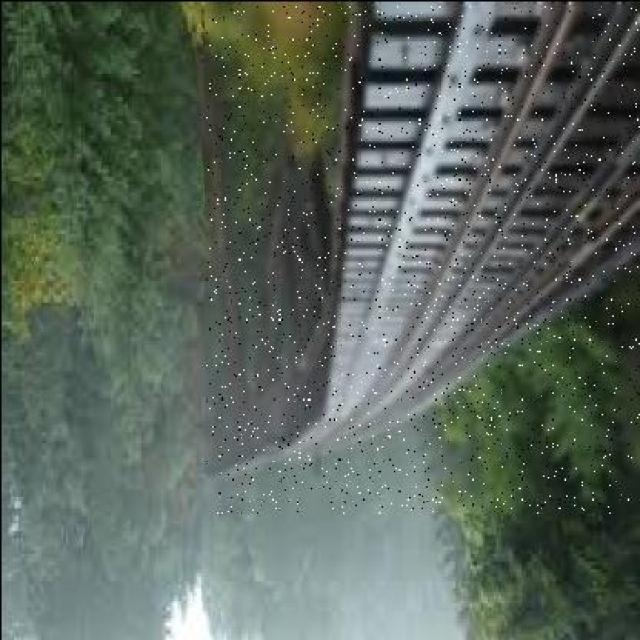rail: (206, 6, 639, 512)
